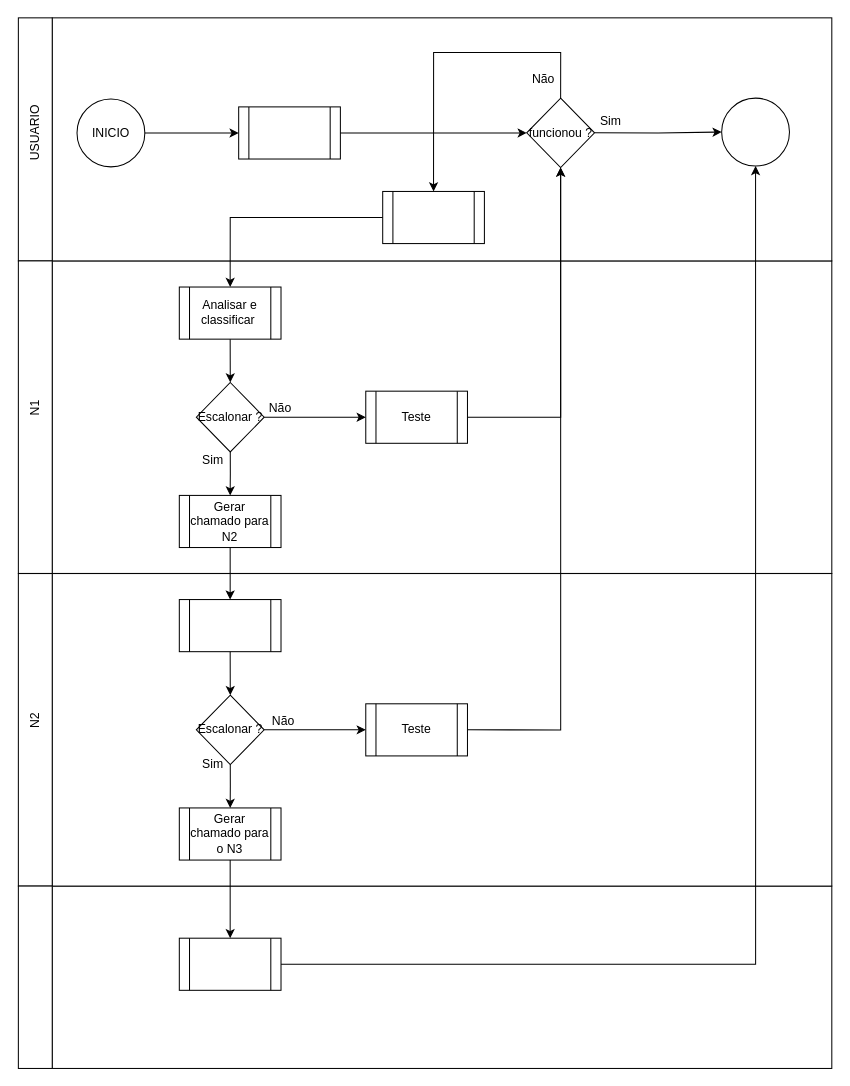
This 850x1086 diagram has some shape labels left out. Here are the shapes that lost their labels. From the top down, the centre of each, then its label:
At [289,132]: "Acesse ao FAQ".
At [755,131]: "FIM".
At [433,217]: "Gerar chamado".
At [229,625]: "Analisa o chamado".
At [34,976]: "N3".
At [229,963]: "Visita tecnica".
